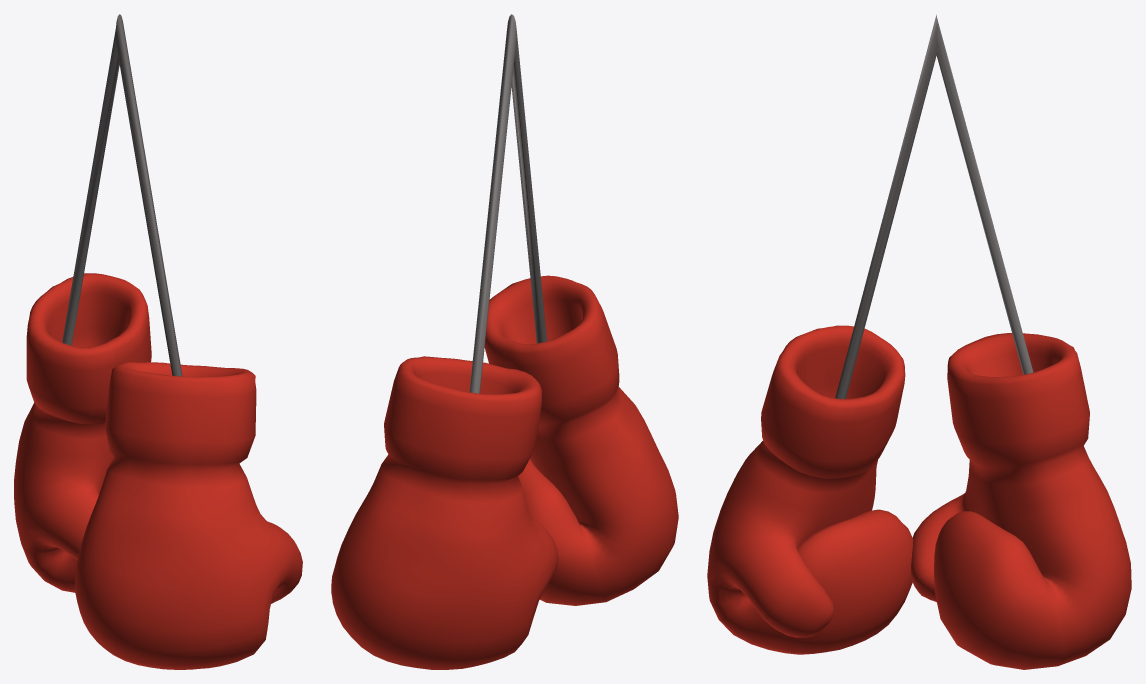
The model's file is Decor_mirror8_boxing gloves.fbx.
The picture shows the model from 3 angles, left to right: view 1: azimuth 30°, elevation 25°; view 2: azimuth 150°, elevation 25°; view 3: azimuth 270°, elevation 25°; orthographic projection. The views are drawn at different scales.
Visible parts, largest first — view 1: rrrzrr001; view 2: rrrzrr001; view 3: rrrzrr001.
Boxes of the visible parts, x1,y1,x2,y2 form: rrrzrr001: (14,14,302,669); rrrzrr001: (331,14,678,669); rrrzrr001: (707,14,1131,669).
Size of the model in its own units: 1444 by 3894 by 2383.
